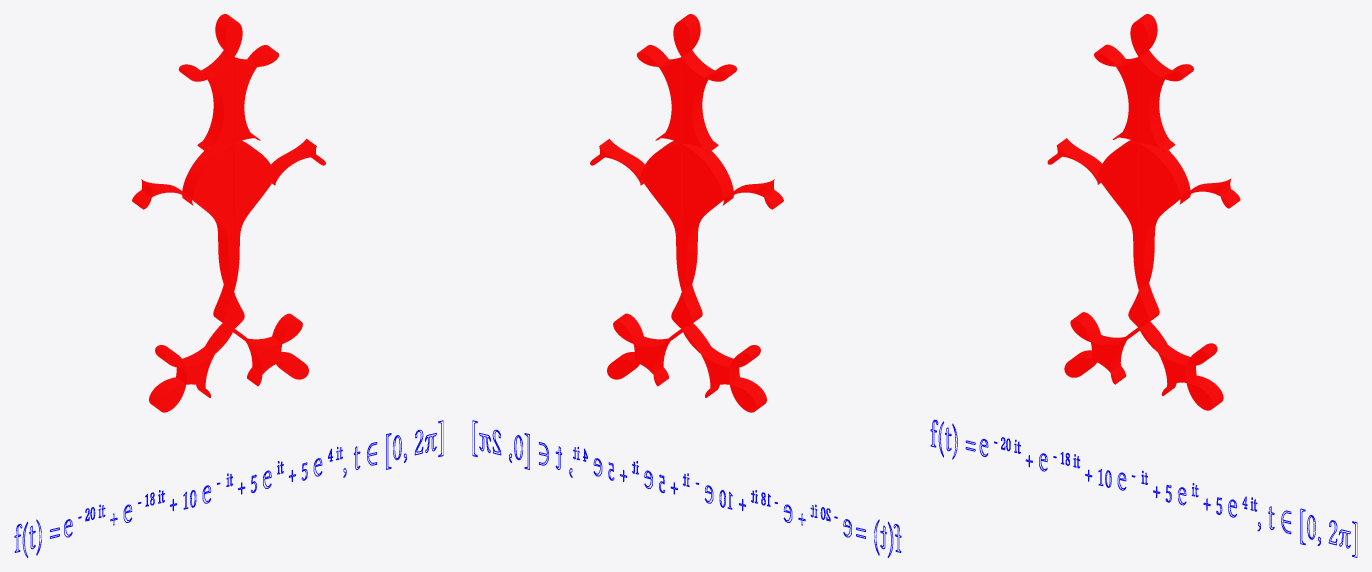
File: SimpleBeauty13.glb
3 views of the same model, side by side, from view 1: azimuth 30°, elevation 25°; view 2: azimuth 150°, elevation 25°; view 3: azimuth 330°, elevation 25° (orthographic).
Bounding box in the file's own units: 1.2 × 1.31 × 0.05.
